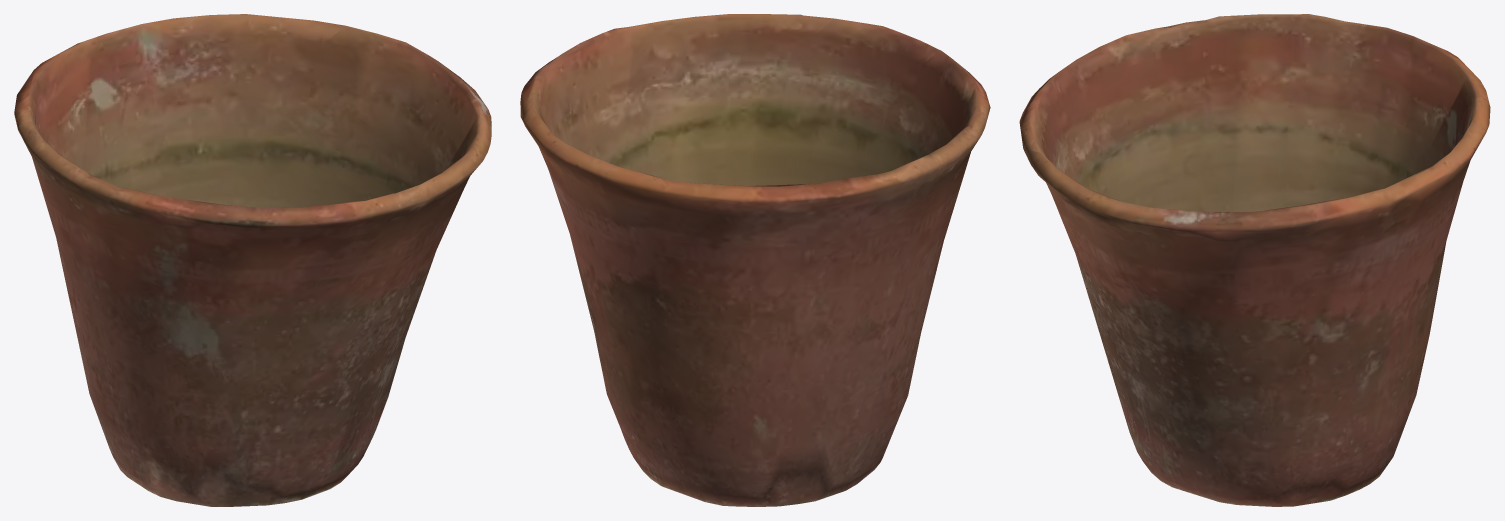
The model's file is planter_pot_clay.glb.
The picture shows the model from 3 angles, left to right: view 1: azimuth 30°, elevation 25°; view 2: azimuth 150°, elevation 25°; view 3: azimuth 270°, elevation 25°; orthographic projection.
Parts seen in each view (by area): view 1: planter_pot_clay; view 2: planter_pot_clay; view 3: planter_pot_clay.
Part boxes in pixels (left/top/right/bottom): planter_pot_clay: left=14, top=14, right=491, bottom=506; planter_pot_clay: left=520, top=14, right=990, bottom=506; planter_pot_clay: left=1019, top=14, right=1490, bottom=506.
Bounding box in the file's own units: 0.266 × 0.2218 × 0.2635.
1 material, 1 textured.
